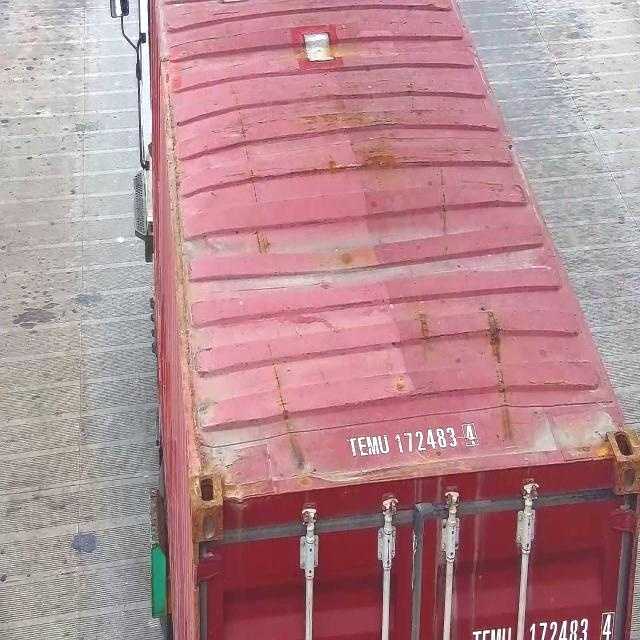Dent: (277, 186, 494, 326)
Rusty: (267, 341, 307, 473), (231, 82, 262, 204), (488, 311, 515, 451), (439, 168, 449, 239), (254, 226, 274, 260), (417, 309, 434, 348)
